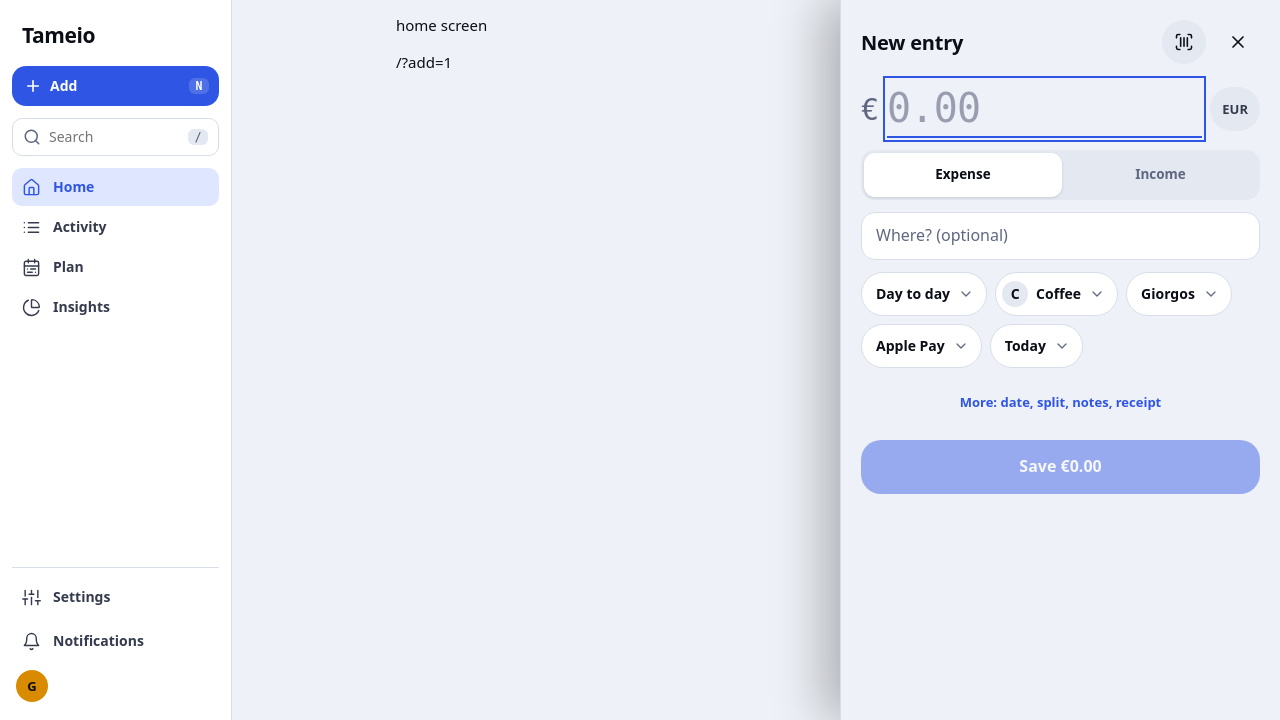
Test: Undo in the panel deletes what was just saved
This screenshot has width=1280, height=720.
Type "5" into the field named "Amount" at (1045, 109), box [887,80,1202,138]
Then press Enter
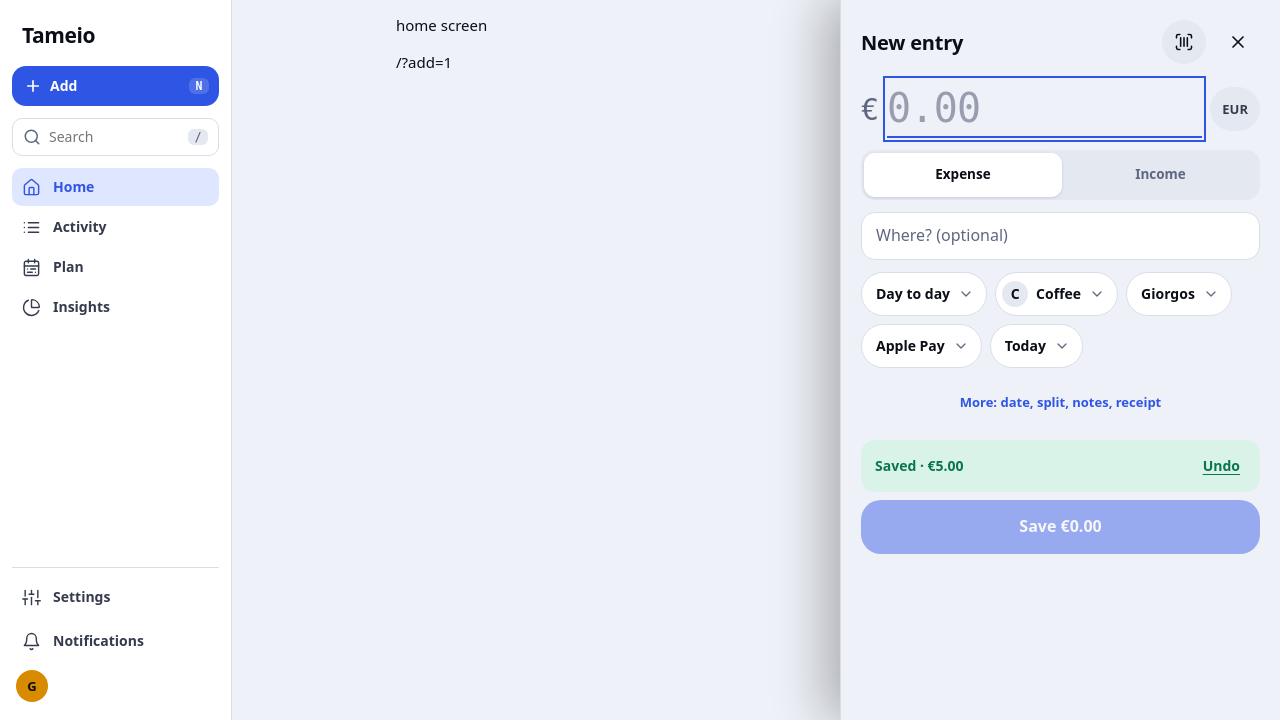
Click the button "Undo" at (1221, 466), box [1191,448,1252,484]
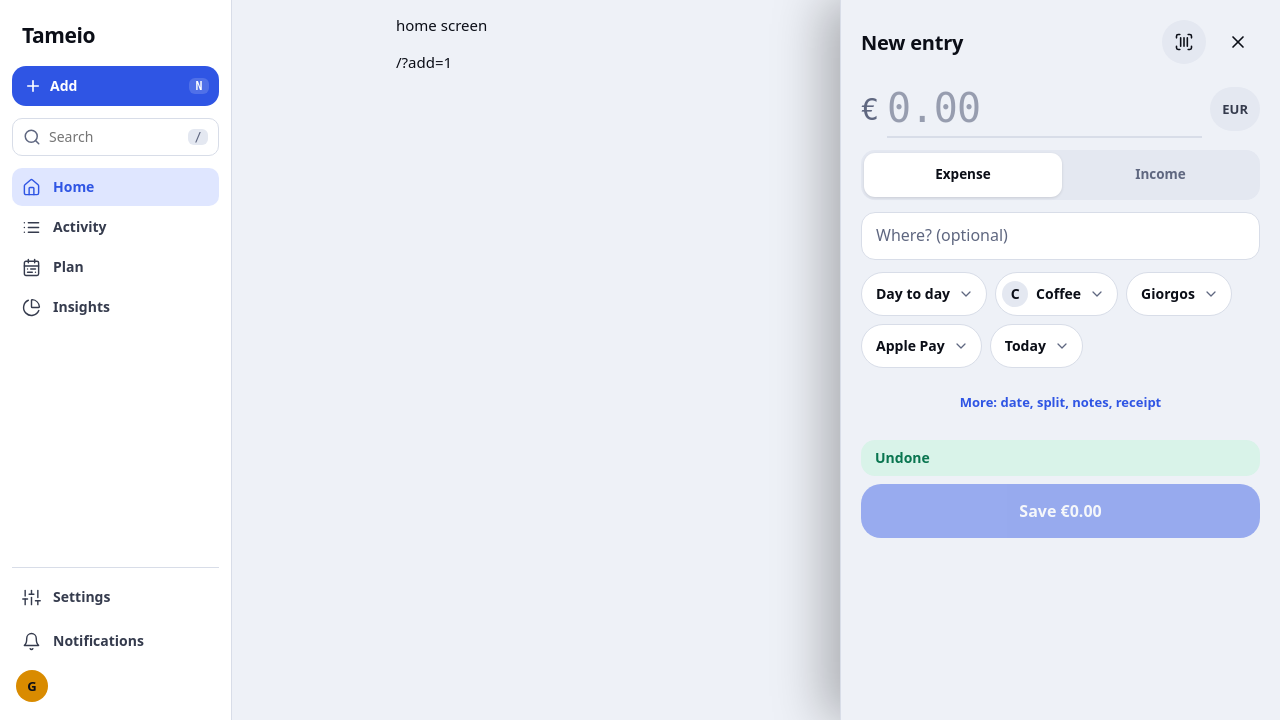
Now the message reads "Undone", box [875,448,930,467]
